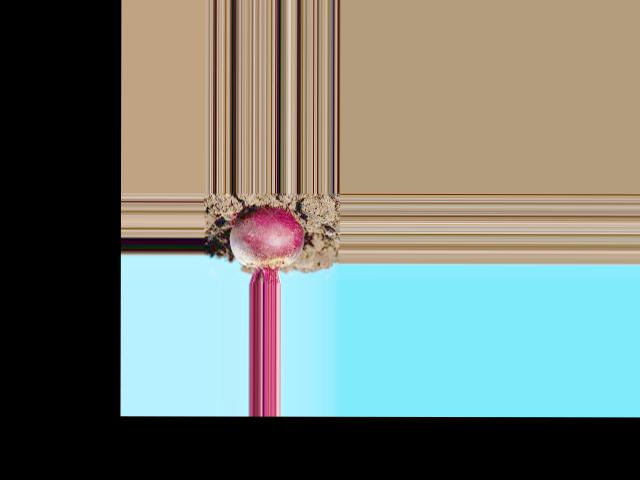beet: (228, 206, 303, 283)
